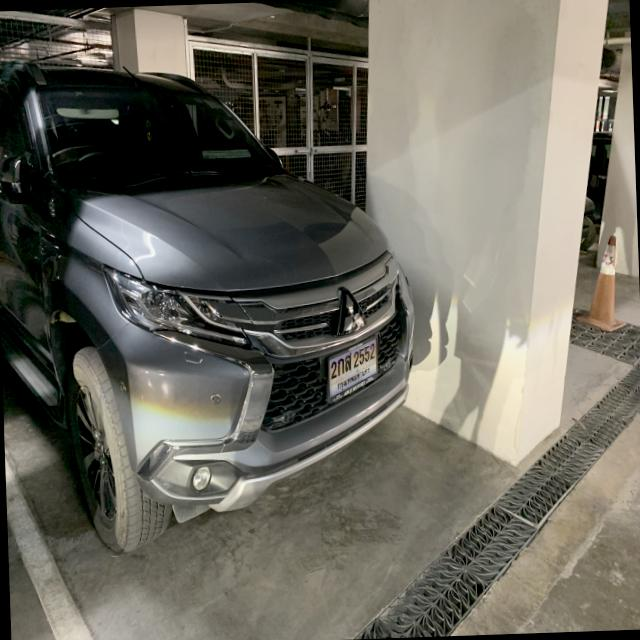license_plate: (322, 332, 383, 408)
